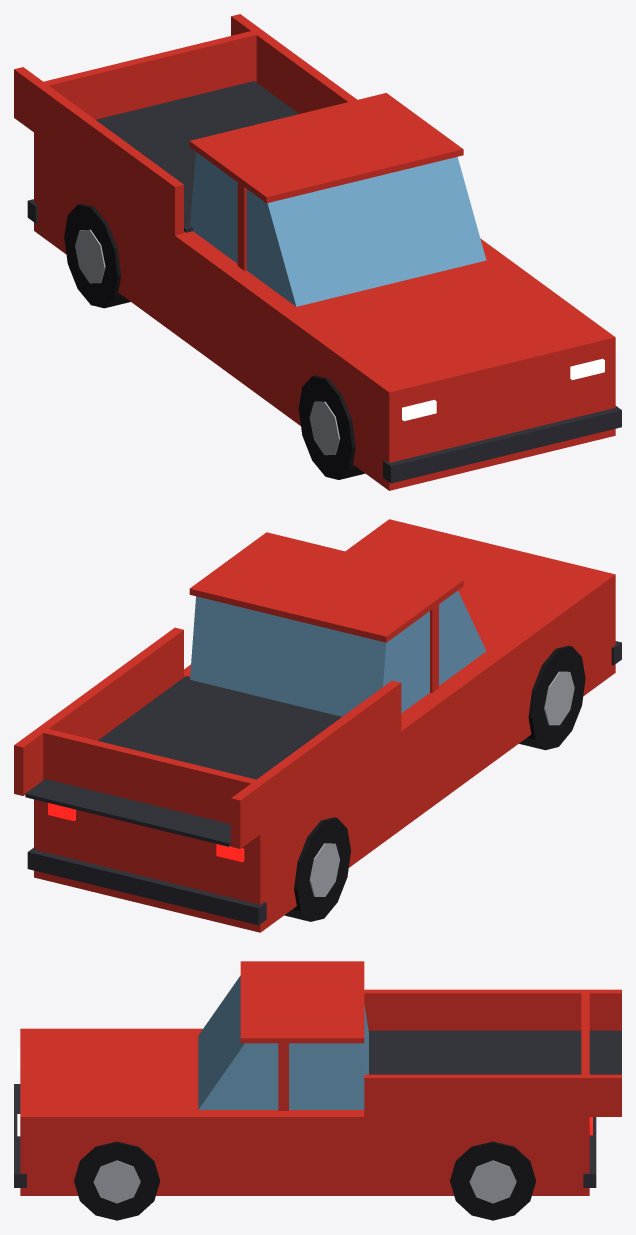
File: pickup-light.glb
3 views of the same model, one above another, from view 1: azimuth 30°, elevation 25°; view 2: azimuth 150°, elevation 25°; view 3: azimuth 270°, elevation 25° (orthographic). The views are drawn at different scales.
Visible parts, largest first — view 1: pickup_truck; view 2: pickup_truck; view 3: pickup_truck.
Part boxes in pixels (<box>): pickup_truck: <box>14,14,621,490</box>; pickup_truck: <box>14,519,621,932</box>; pickup_truck: <box>14,961,621,1220</box>.
Bounding box in the file's own units: 2.03 × 1.8 × 5.66.
